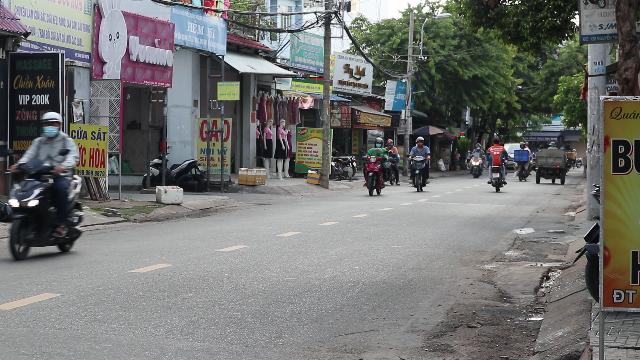helmet: (40, 112, 62, 136)
motorcyclist: (2, 110, 88, 262)
